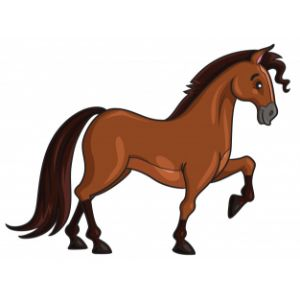horse: (10, 45, 291, 255)
